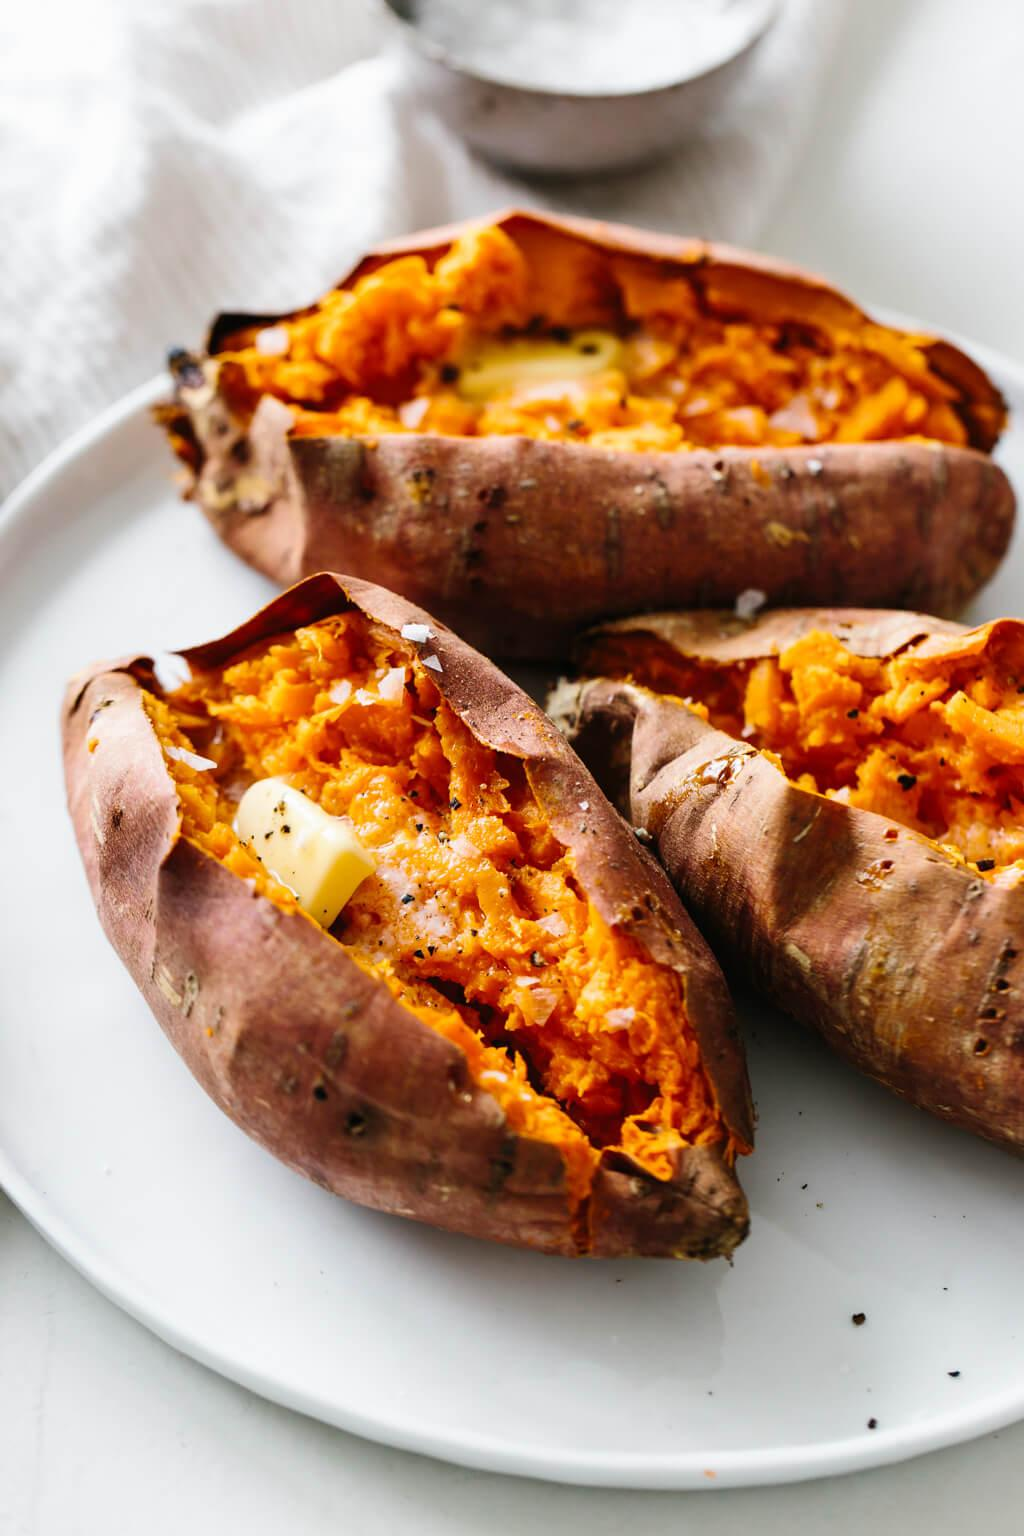sweetpotato: (58, 568, 758, 1262), (151, 203, 1015, 631), (544, 667, 1022, 1157), (198, 427, 1016, 625), (570, 602, 1022, 880)
